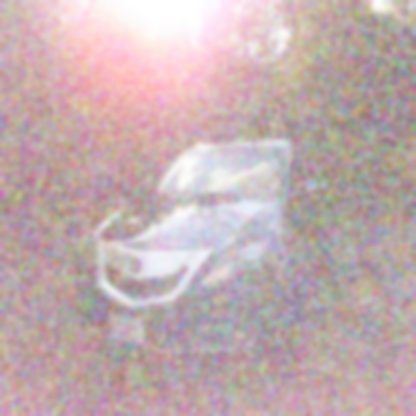Vehicle: (72, 134, 336, 379)
